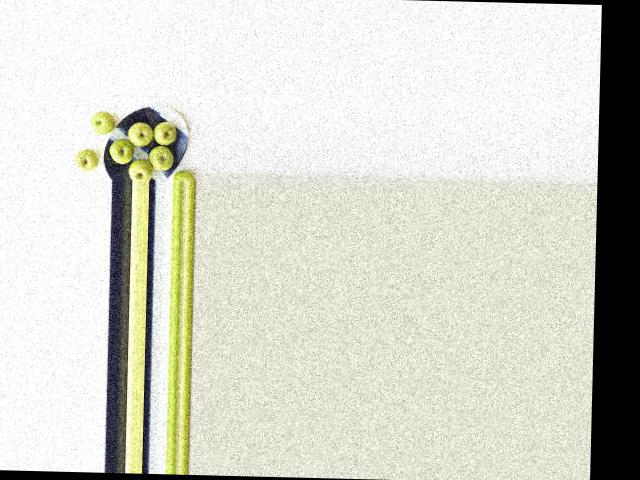apple: (151, 119, 176, 145)
